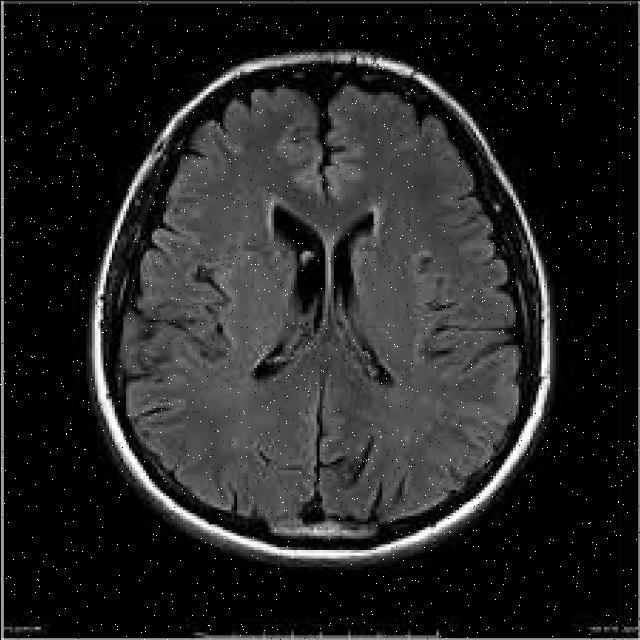No_Tumor: (90, 51, 554, 565)
